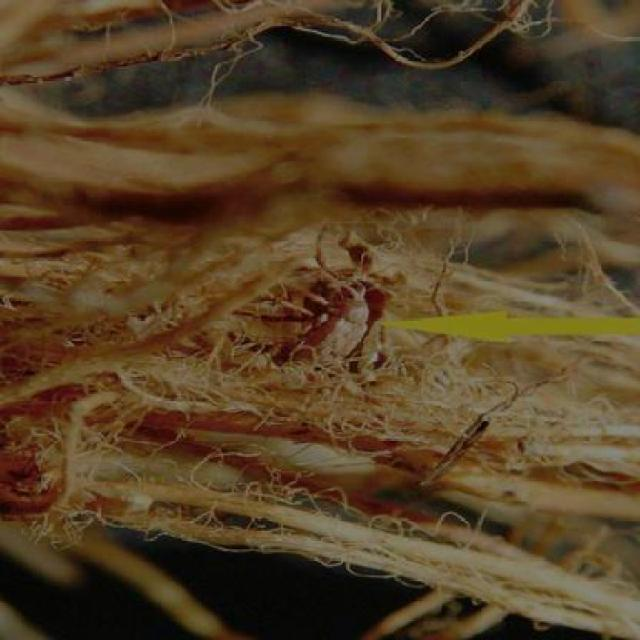rice-bug: (270, 262, 382, 370)
